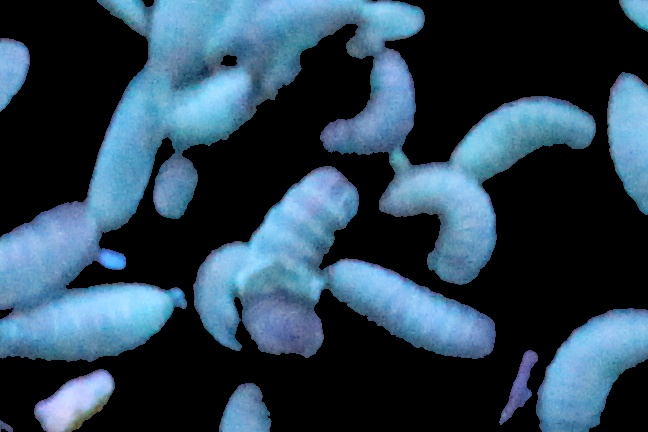larvae: (329, 255, 501, 366), (534, 299, 648, 432), (248, 166, 363, 297), (380, 164, 498, 286), (1, 286, 181, 361), (90, 72, 168, 237), (456, 102, 598, 190), (172, 57, 303, 149), (1, 198, 101, 317), (319, 49, 419, 152), (248, 3, 428, 49), (132, 1, 238, 78), (606, 68, 648, 219), (191, 244, 246, 353), (151, 156, 199, 218)
